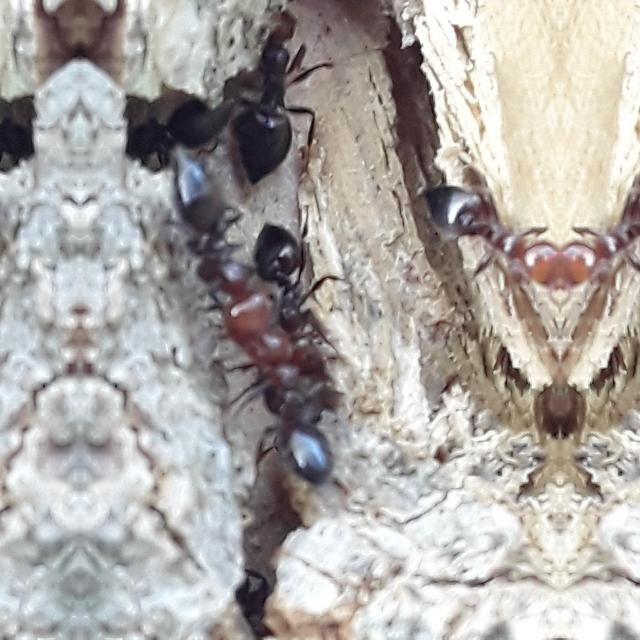Crematogaster: (183, 262, 353, 486), (424, 161, 560, 301), (222, 30, 330, 184), (252, 210, 344, 356), (560, 161, 640, 301)
